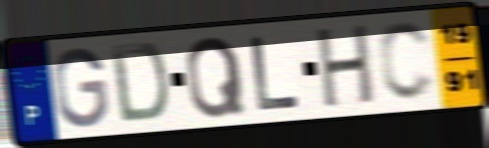C: (376, 18, 438, 104)
D: (107, 41, 171, 126)
G: (52, 45, 111, 130)
H: (315, 21, 377, 112)
L: (247, 33, 304, 114)
Q: (184, 33, 249, 121)
